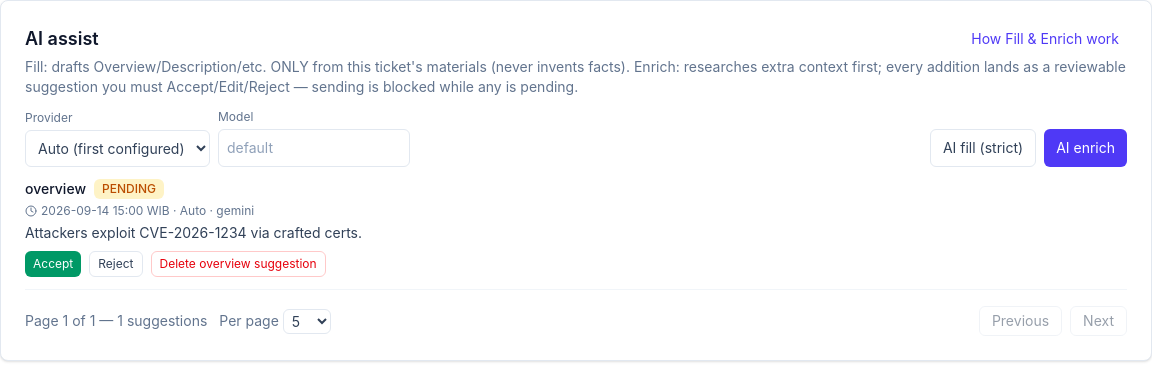
Scenario: TASK-UIC2: AI loading states, picker, provenance, help › placeholder shows the configured model default, or 'default' on Auto
Expected: the field with placeholder "default" is shown, [218,129,410,167]
Select "OPENAI" in the dropdown named "AI provider" at coordinates (118, 148), box [25,130,210,167]
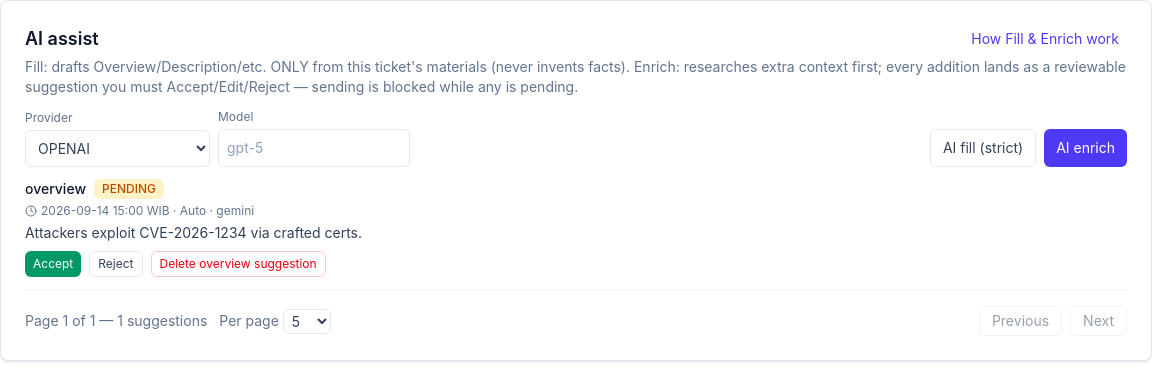
Now the field with placeholder "gpt-5" is shown, box [218,129,410,167]
